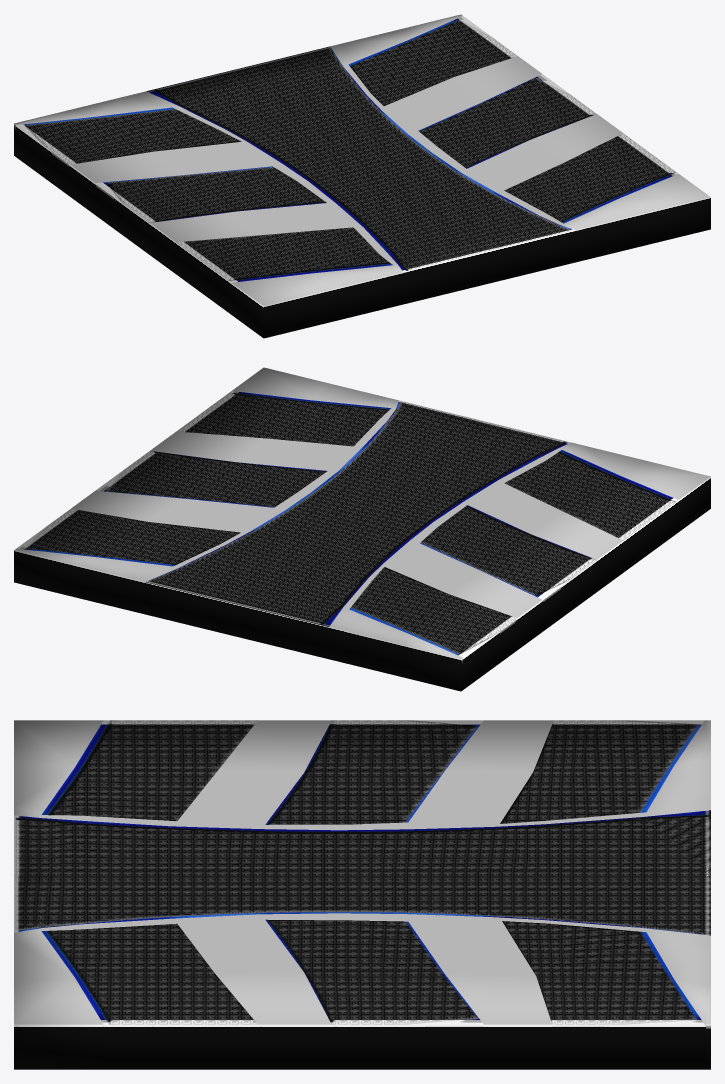
File: Floor.FBX
The picture shows the model from 3 angles, top to bottom: view 1: azimuth 30°, elevation 25°; view 2: azimuth 150°, elevation 25°; view 3: azimuth 270°, elevation 25°; orthographic projection. The views are drawn at different scales.
Parts seen in each view (by area): view 1: Door_Door_Door_Door_Door_Door_Door_Door_Door_Door_Door_Door_; view 2: Door_Door_Door_Door_Door_Door_Door_Door_Door_Door_Door_Door_; view 3: Door_Door_Door_Door_Door_Door_Door_Door_Door_Door_Door_Door_.
Part boxes in pixels (x1,y1,x2,y2): Door_Door_Door_Door_Door_Door_Door_Door_Door_Door_Door_Door_: (14,14,710,338); Door_Door_Door_Door_Door_Door_Door_Door_Door_Door_Door_Door_: (14,367,710,691); Door_Door_Door_Door_Door_Door_Door_Door_Door_Door_Door_Door_: (14,720,710,1069).
Size of the model in its own units: 200 by 13.78 by 194.
